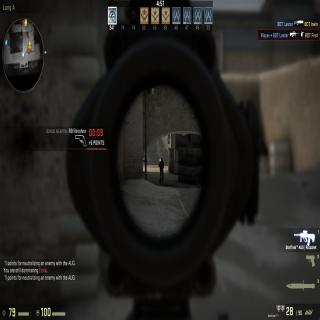T-Body: (159, 158, 164, 183)
T-Head: (161, 157, 163, 162)
